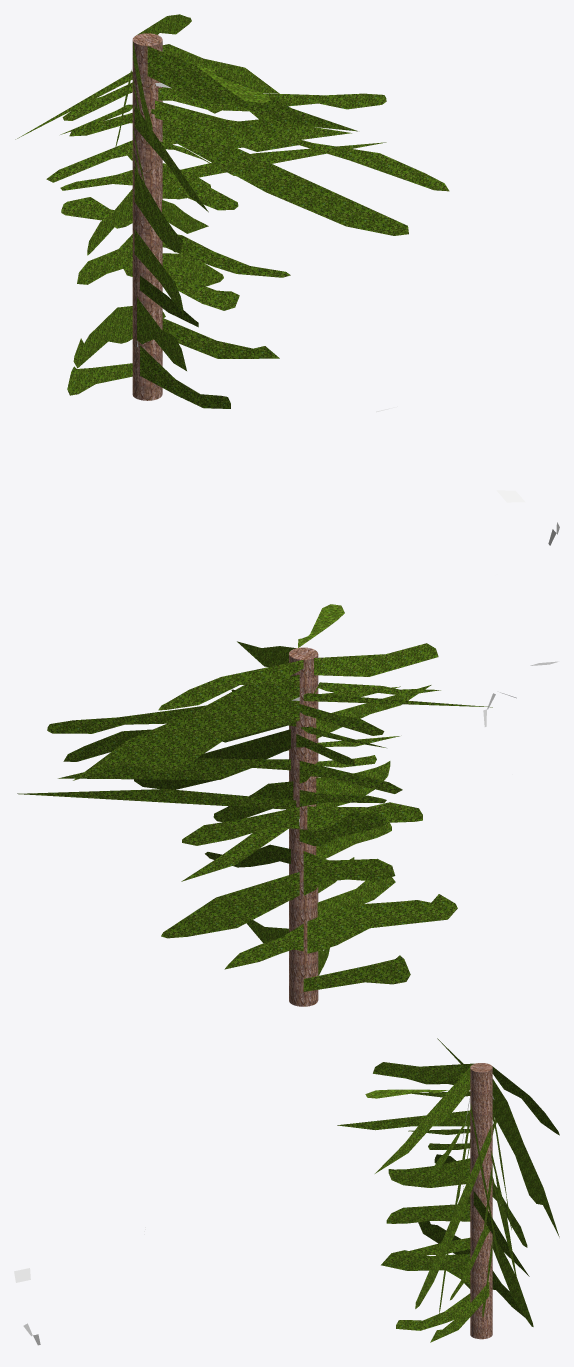
3 views of the same model, one above another, from view 1: azimuth 30°, elevation 25°; view 2: azimuth 150°, elevation 25°; view 3: azimuth 270°, elevation 25° (orthographic). The views are drawn at different scales.
Visible parts, largest first — view 1: SketchUp (×28); view 2: SketchUp (×32); view 3: SketchUp (×19).
Part boxes in pixels (x1,y1,x2,y2): SketchUp (×28): (46, 33, 449, 408); SketchUp (×32): (17, 604, 492, 1006); SketchUp (×19): (337, 1062, 559, 1342).
Bounding box in the file's own units: 291 × 418 × 225.
3 materials, 2 textured.
